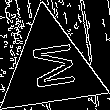M_W: (24, 42, 77, 94)
